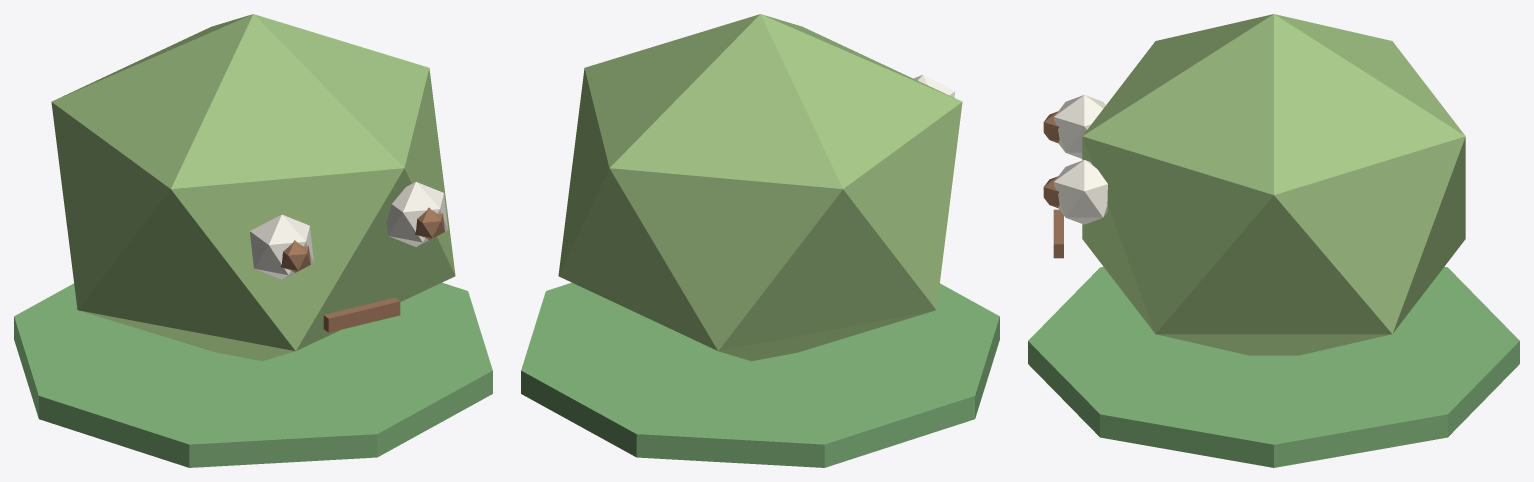
Rendered from npcpose_slime_idle_00.glb.
3 views of the same model, side by side, from view 1: azimuth 30°, elevation 25°; view 2: azimuth 150°, elevation 25°; view 3: azimuth 270°, elevation 25° (orthographic).
Visible parts, largest first — view 1: npcpose; view 2: npcpose; view 3: npcpose.
Boxes of the visible parts, left/top/right/bottom form: npcpose: left=14, top=14, right=492, bottom=467; npcpose: left=521, top=14, right=999, bottom=467; npcpose: left=1028, top=14, right=1519, bottom=467.
Size of the model in its own units: 0.96 by 0.754 by 0.96.
